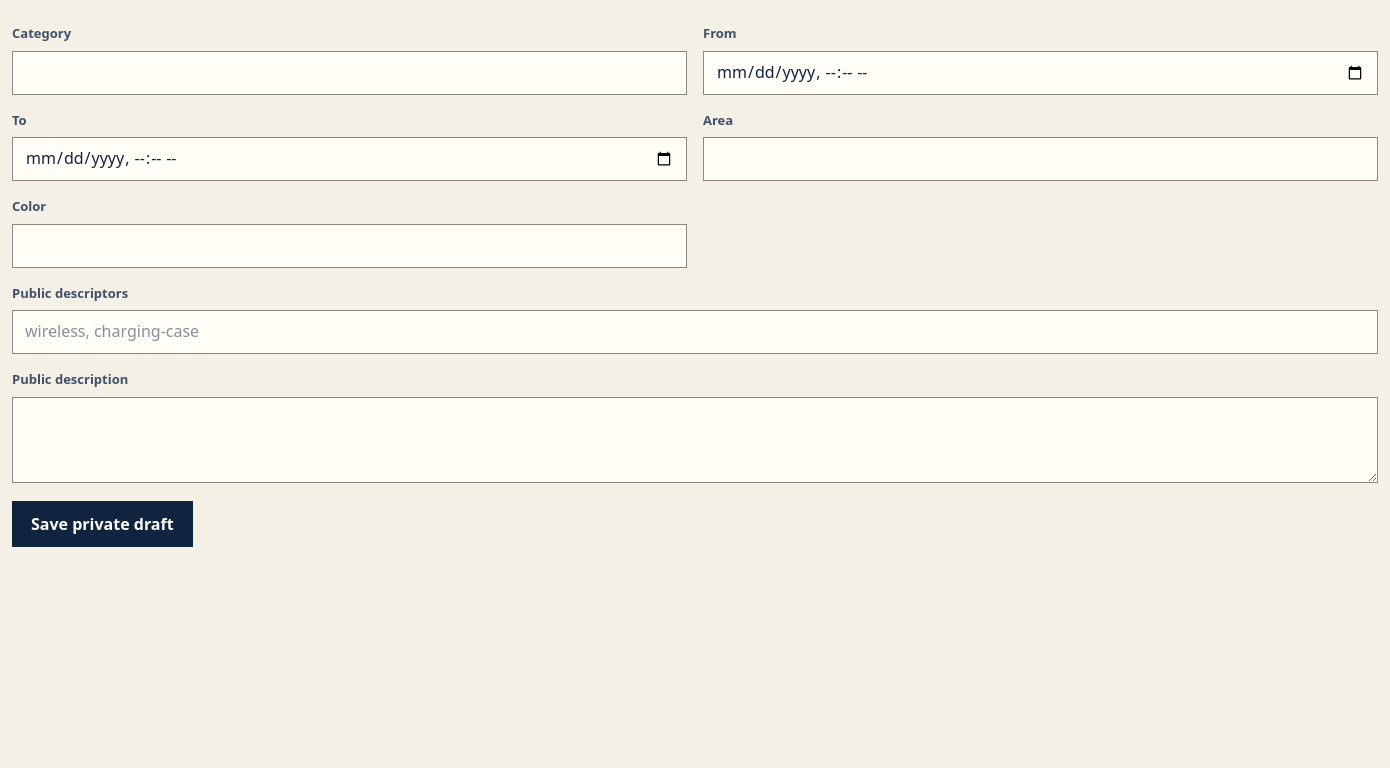
Test: Claimant report workspace components › rejects invalid create intent before writer
In the field labelled "Category": (350, 72) x1=12 y1=50 x2=687 y2=94, type "earbuds"
In the field labelled "From": (1040, 72) x1=703 y1=50 x2=1378 y2=94, type "2026-08-25T17:00"
In the field labelled "To": (350, 159) x1=12 y1=137 x2=687 y2=181, type "2026-08-25T19:00"
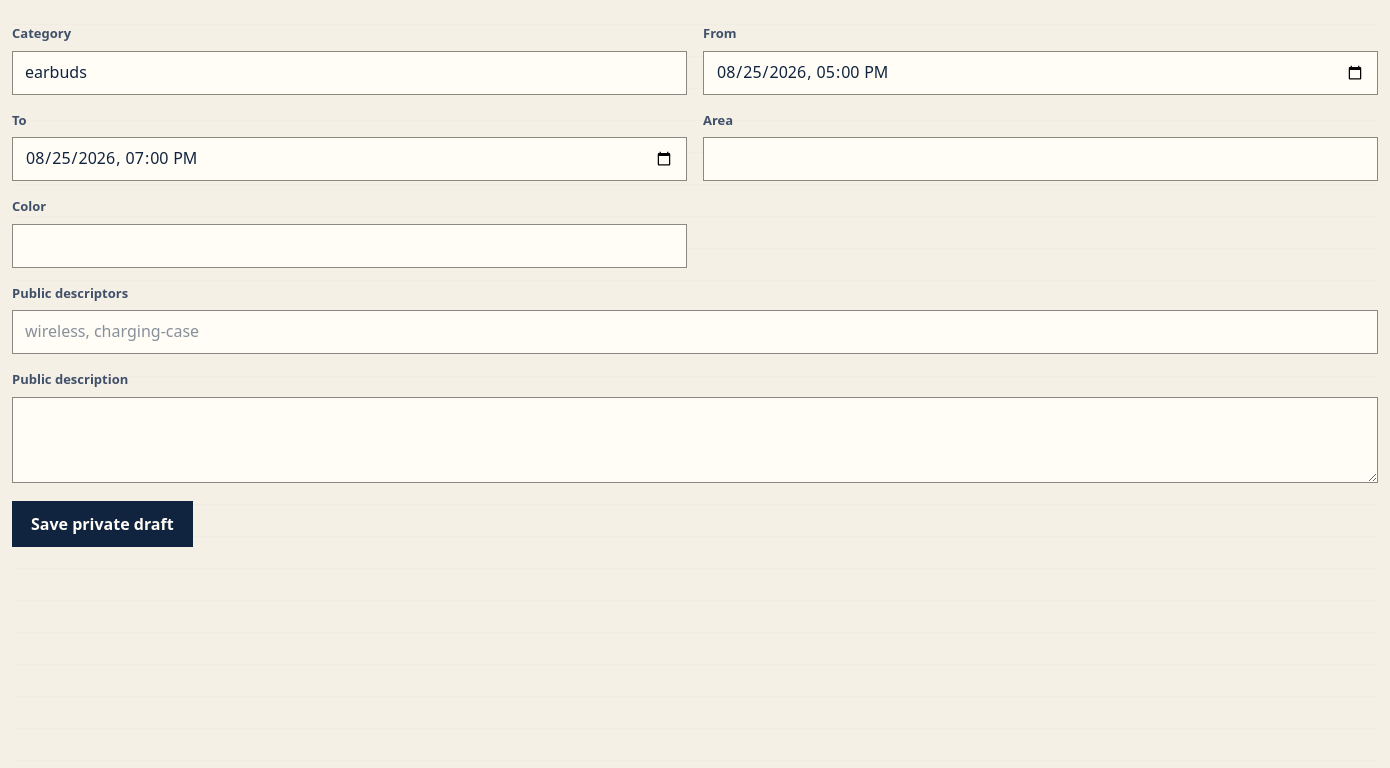
In the field labelled "Area": (1040, 159) x1=703 y1=137 x2=1378 y2=181, type "library"
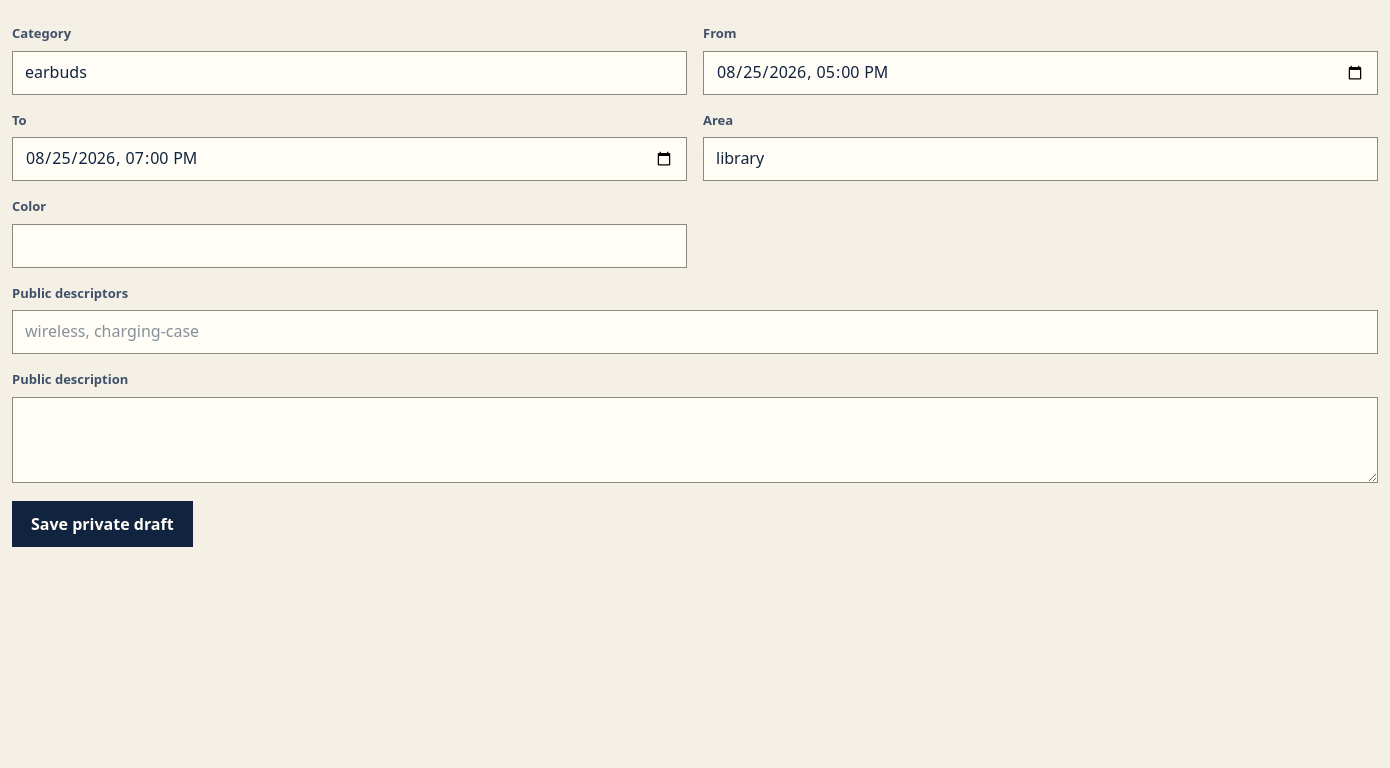
In the field labelled "Color": (350, 246) x1=12 y1=224 x2=687 y2=268, type "black"
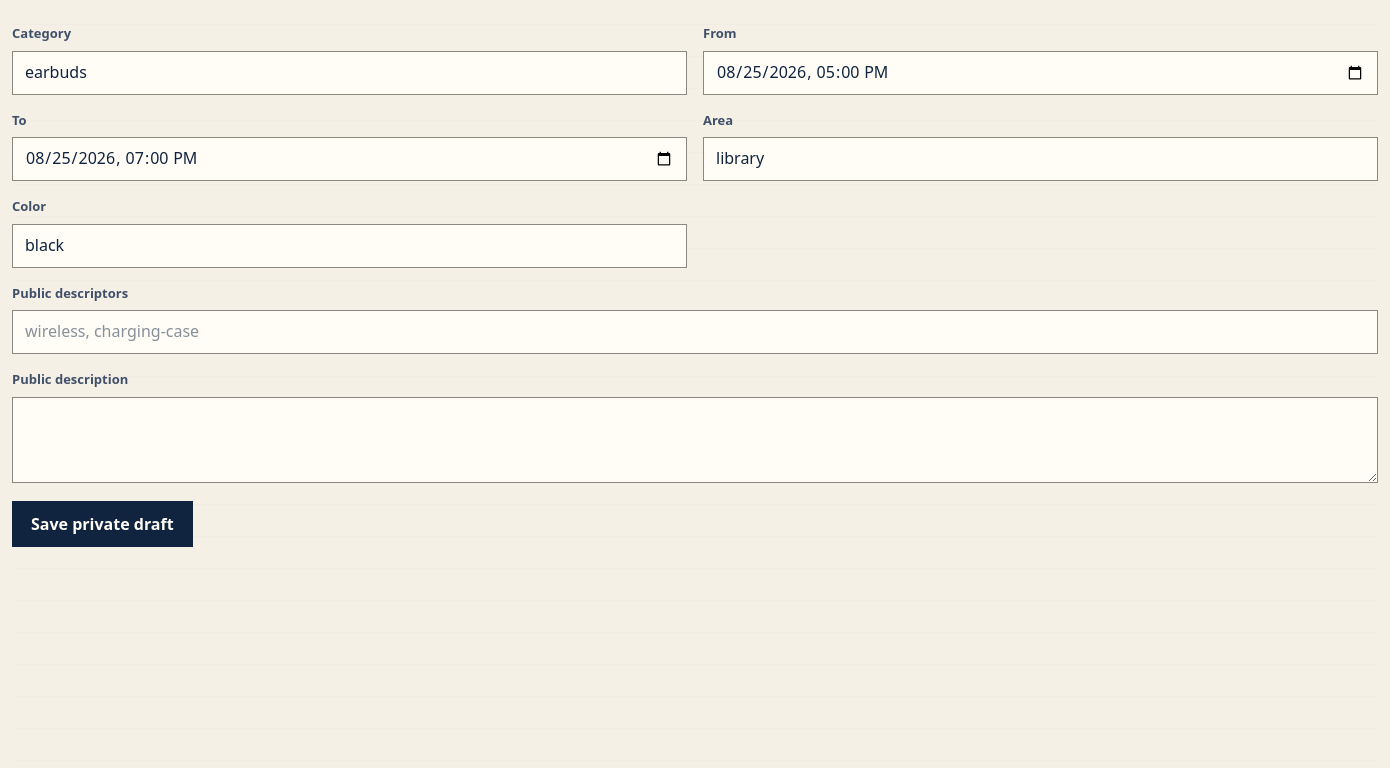
In the text box labelled "Public description": (695, 440) x1=12 y1=396 x2=1378 y2=483, type "Black earbud case."
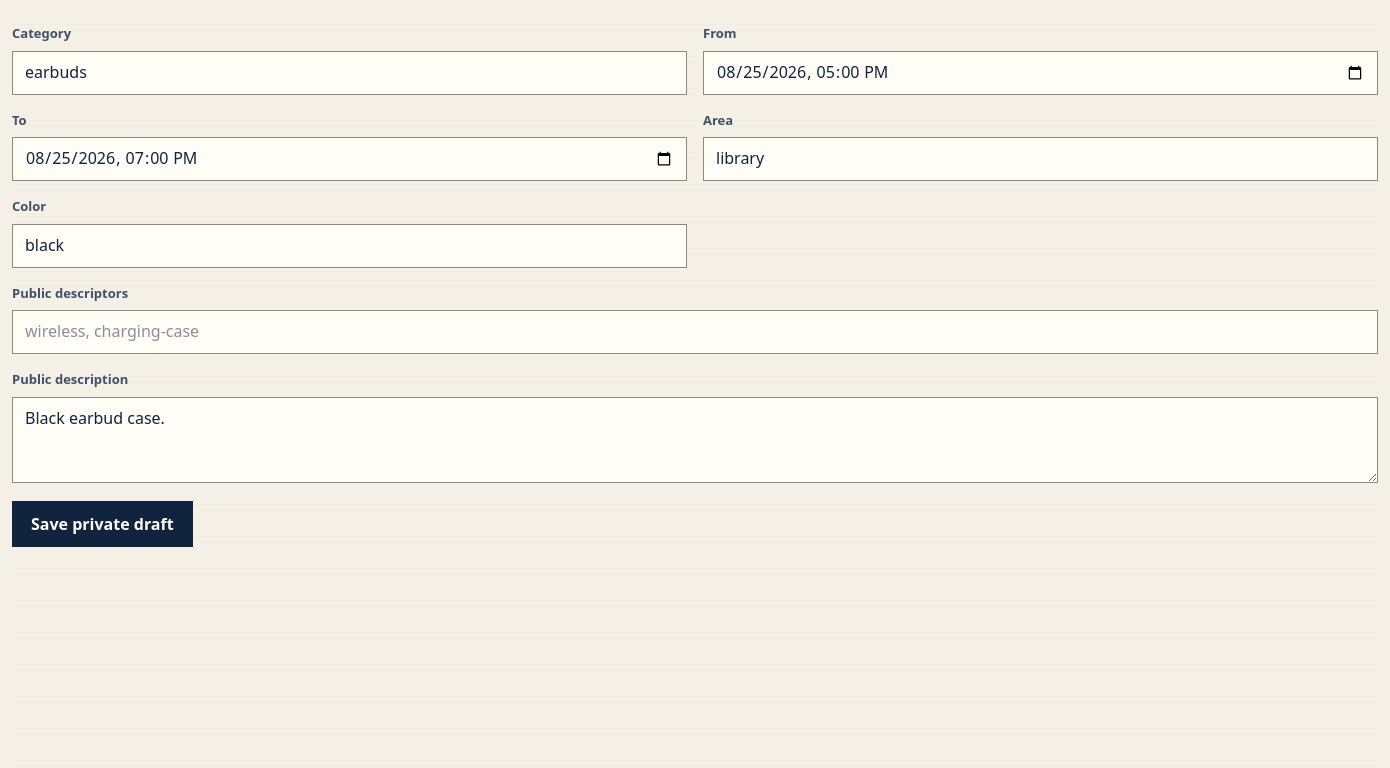
Replace the text in the field labelled "Category" with "!!!": (350, 72) x1=12 y1=50 x2=687 y2=94
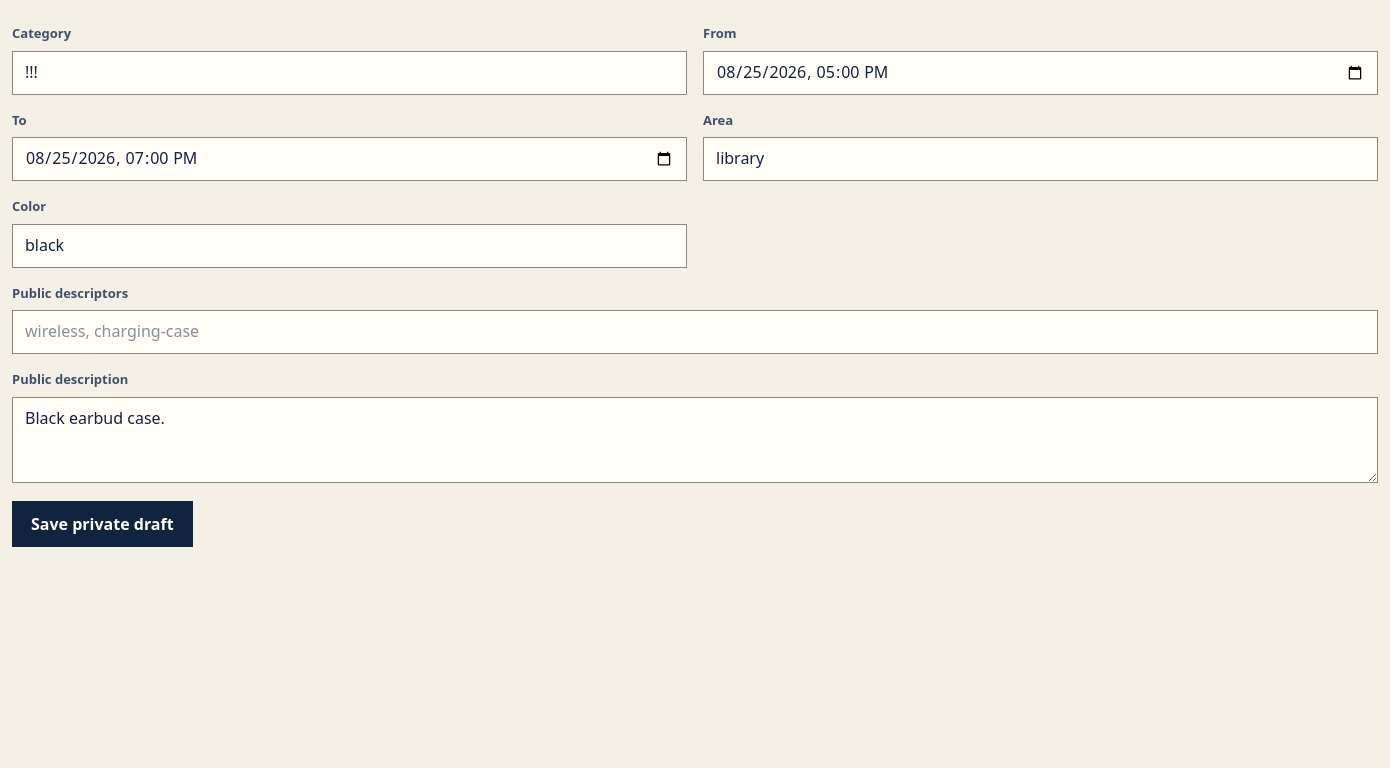
Submit the form
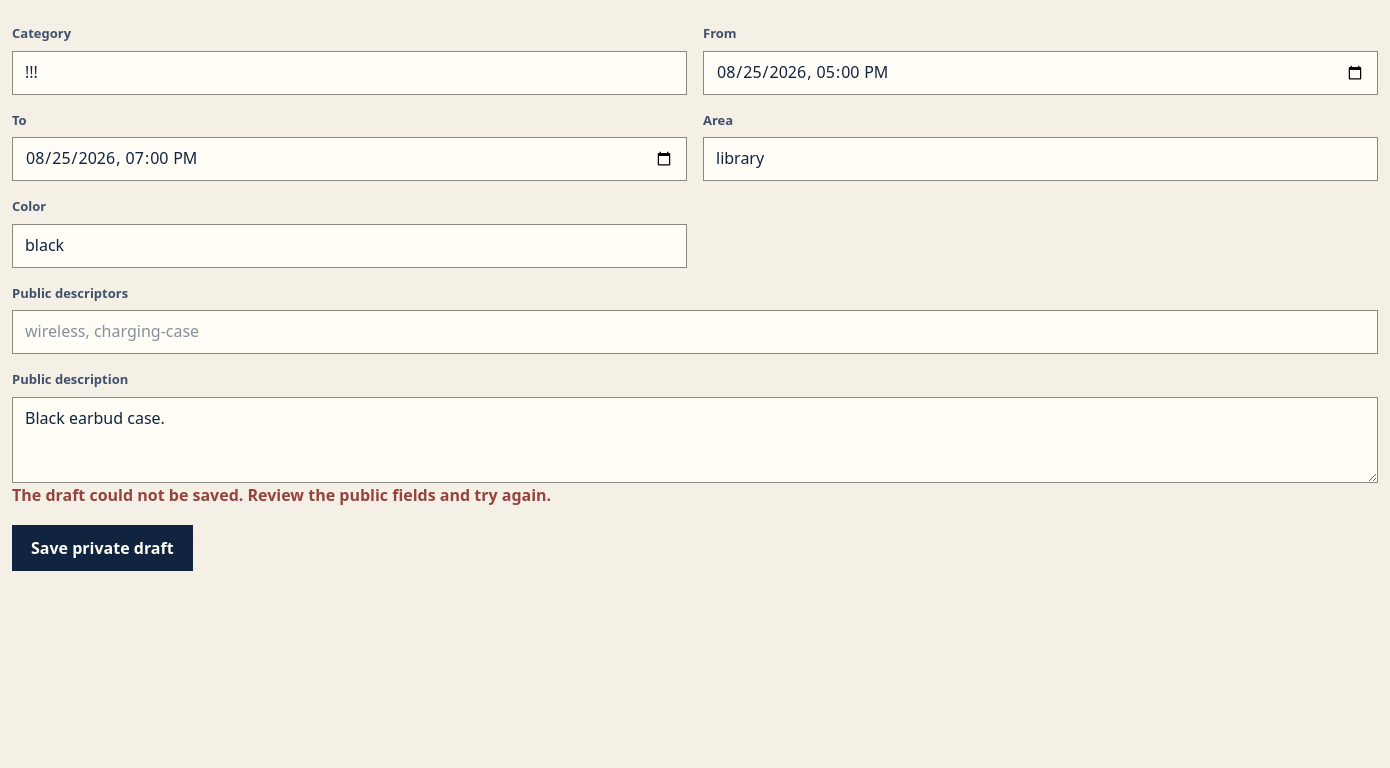
Result: the message "The draft could not be saved. Review the public fields and try again." is shown at x1=12 y1=484 x2=551 y2=506
